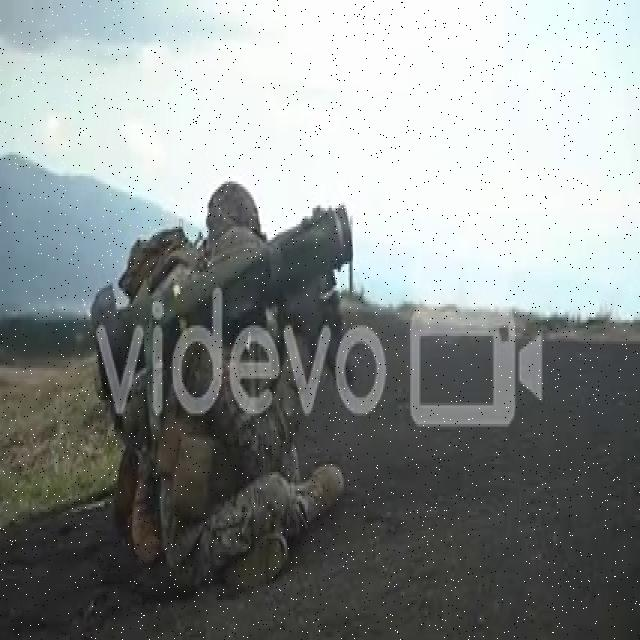bazooka: (80, 202, 359, 418)
